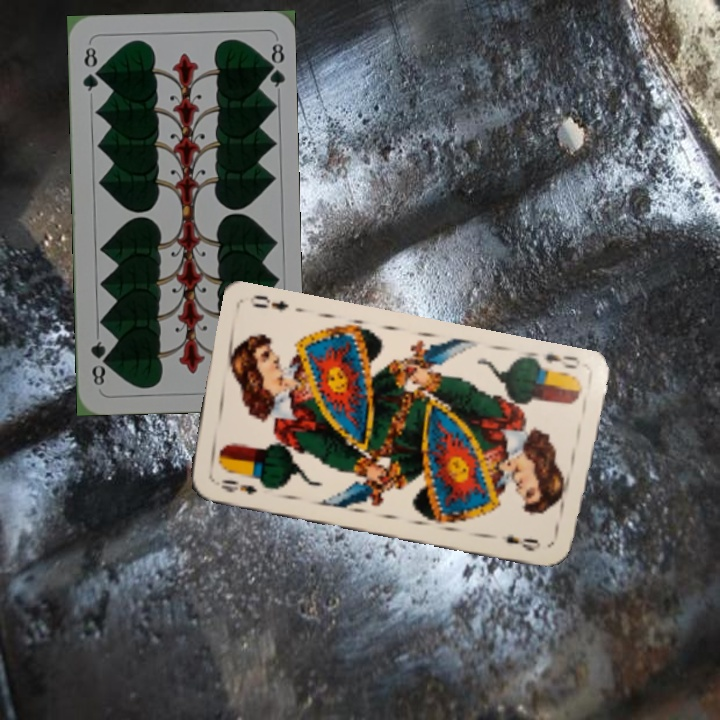EO: (529, 348, 583, 378), (217, 475, 260, 497)
G8: (78, 43, 102, 94)
